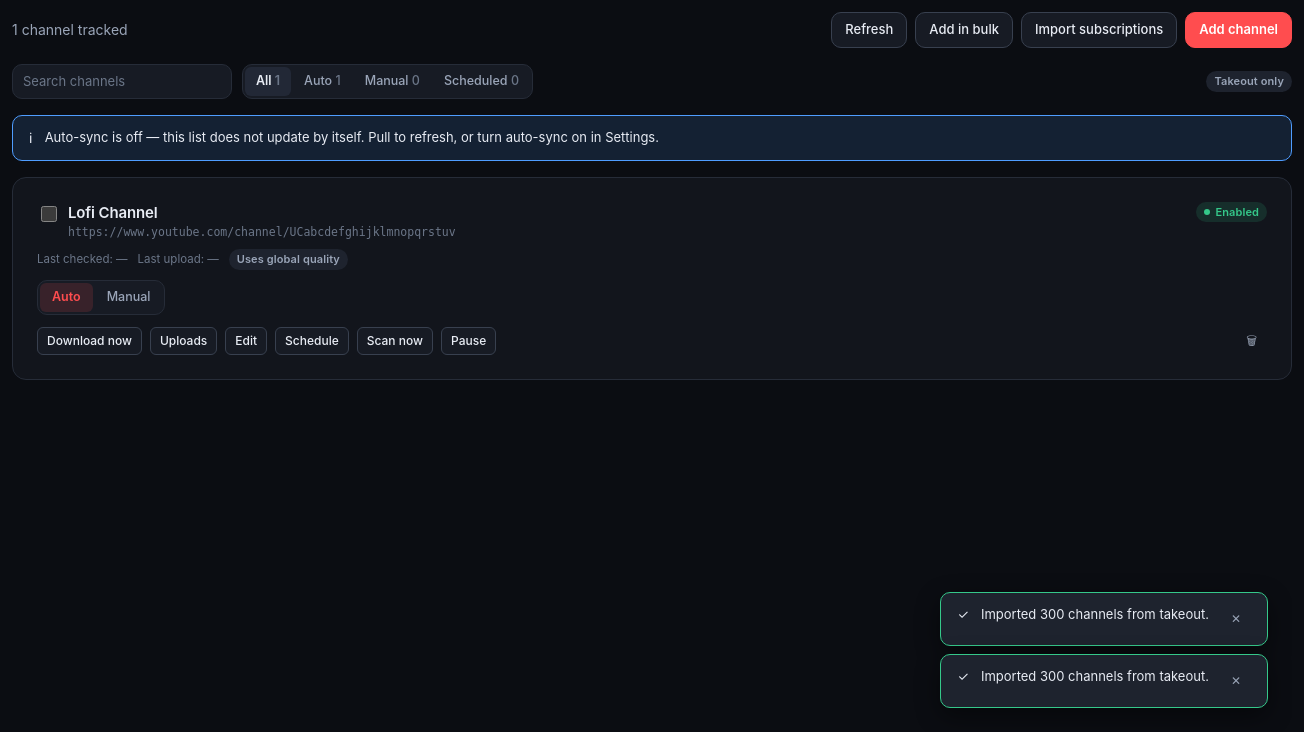
Test case: scan result `held` › is reported as information, not as a failure
Expected: the heading "Lofi Channel" is shown, 68,203 -> 158,222
Click the button "Scan now" at [395, 341], box 357,327 -> 433,355
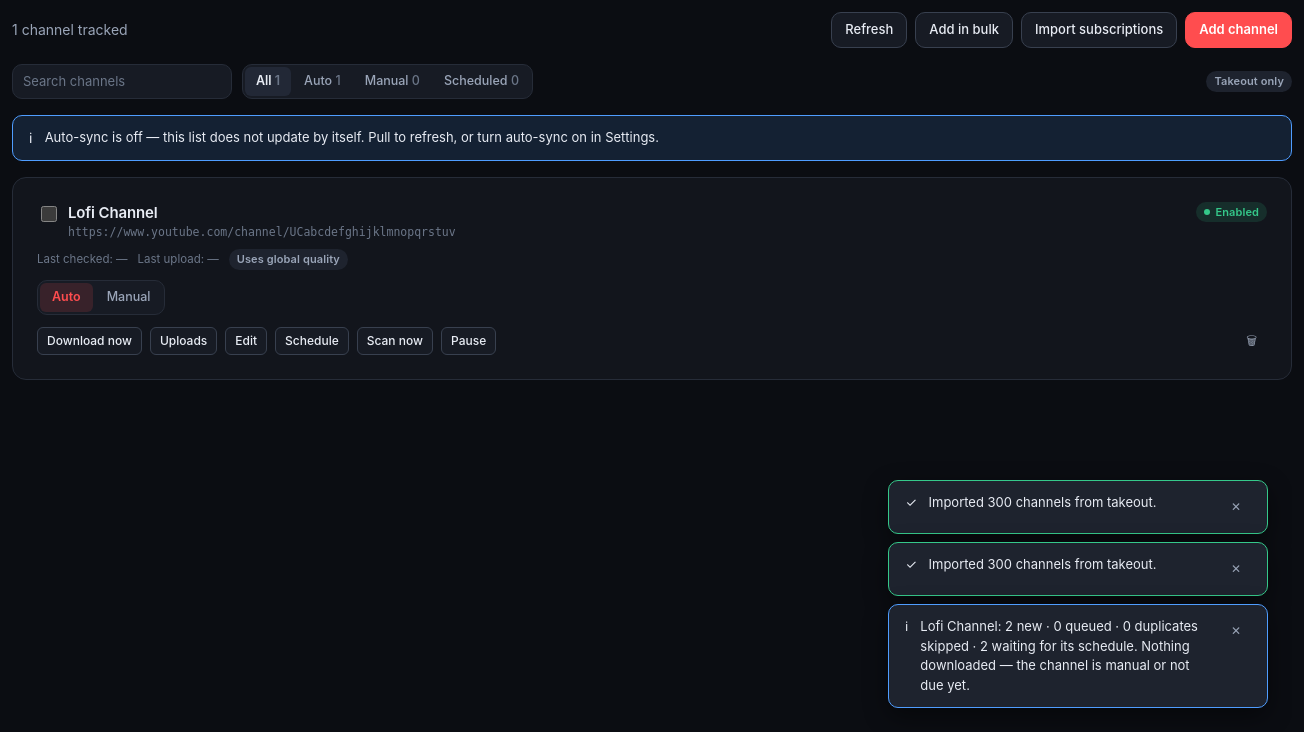
Expected: the text "2 waiting for its schedule" shows "nothing downloaded", 920,618 -> 1198,692
